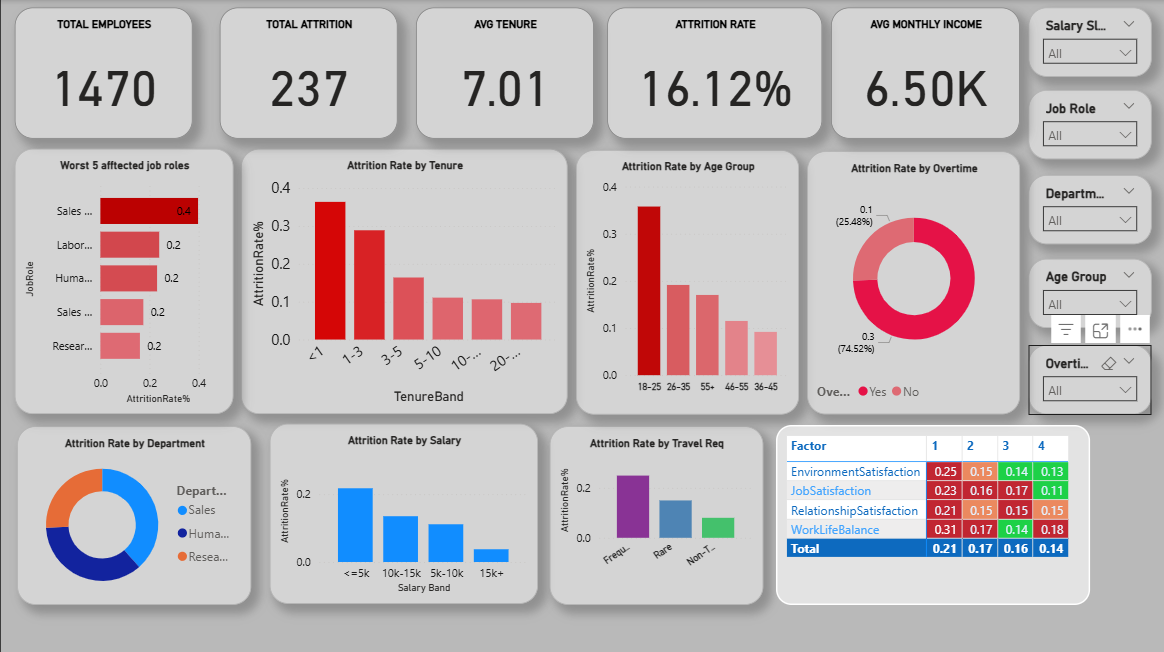

The dashboard page shown, as its layout file describes it:
{"tool":"powerbi","page":{"name":"Page 1","canvas":[1280,720],"ordinal":0},"visuals":[{"type":"card","title":"TOTAL EMPLOYEES","fields":{"Values":["HR_Analytics.TotalEmployees"]},"box":[15,8.8,195,143.8],"z":0},{"type":"clusteredColumnChart","title":"Attrition Rate by Tenure","fields":{"Category":["HR_Analytics.TenureBand"],"Y":["HR_Analytics.AttritionRate%"]},"box":[263,163.8,358.8,291.2],"z":1000},{"type":"clusteredColumnChart","title":"Attrition Rate by Salary ","fields":{"Category":["HR_Analytics.SalarySlabGroup"],"Y":["HR_Analytics.AttritionRate%"]},"box":[295.7,465,294.5,197.5],"z":2000},{"type":"clusteredColumnChart","title":"Attrition Rate by Travel Req","fields":{"Category":["HR_Analytics.BusinessTravel"],"Y":["HR_Analytics.AttritionRate%"]},"box":[603,467.5,234,196.2],"z":3000},{"type":"clusteredColumnChart","title":"Attrition Rate by Age Group","fields":{"Y":["HR_Analytics.AttritionRate%"],"Category":["HR_Analytics.AgeGroup"]},"box":[631,165,245,290],"z":4000},{"type":"donutChart","title":"Attrition Rate by Department","fields":{"Category":["HR_Analytics.Department"],"Y":["HR_Analytics.AttritionRate%"]},"box":[17.5,467.5,257,196.2],"z":5000},{"type":"slicer","title":"Attrition Rate by Salary ","fields":{"Values":["HR_Analytics.SalarySlabGroup"]},"box":[1127.6,8.6,135,76.1],"z":6000},{"type":"slicer","title":"Attrition Rate by Salary ","fields":{"Values":["HR_Analytics.JobRole"]},"box":[1127.6,99.4,135,76.1],"z":7000},{"type":"slicer","title":"Attrition Rate by Salary ","fields":{"Values":["HR_Analytics.Department"]},"box":[1127.6,192.6,135,76.1],"z":8000},{"type":"slicer","title":"Attrition Rate by Salary ","fields":{"Values":["HR_Analytics.AgeGroup"]},"box":[1127.6,283.4,135,76.1],"z":9000},{"type":"slicer","title":"Attrition Rate by Salary ","fields":{"Values":["HR_Analytics.OverTime"]},"box":[1127.6,379.1,135,76.1],"z":10000},{"type":"donutChart","title":"Attrition Rate by Overtime","fields":{"Category":["HR_Analytics.OverTime"],"Y":["HR_Analytics.AttritionRate%"]},"box":[885,166.2,233.8,288.8],"z":11000},{"type":"pivotTable","title":"Avg Tenure","fields":{"Rows":["HR_Analytics.Factor"],"Columns":["HR_Analytics.Satisfaction Score"],"Values":["HR_Analytics.AttritionRate%"]},"box":[850.3,466.3,344.8,197.5],"z":12000},{"type":"clusteredBarChart","title":"Worst 5 afftected job roles","fields":{"Category":["HR_Analytics.JobRole"],"Y":["HR_Analytics.AttritionRate%"]},"box":[15,163.8,240,291.2],"z":13000},{"type":"card","title":"TOTAL ATTRITION","fields":{"Values":["HR_Analytics.Total Attrition No"]},"box":[240,8.8,195,143.8],"z":14000},{"type":"card","title":"AVG TENURE","fields":{"Values":["HR_Analytics.AvgTenureYears"]},"box":[456.2,8.8,195,143.8],"z":15000},{"type":"card","title":"ATTRITION RATE","fields":{"Values":["HR_Analytics.Attrition Rate"]},"box":[665,8.8,236.2,143.8],"z":16000},{"type":"card","title":"AVG MONTHLY INCOME","fields":{"Values":["HR_Analytics.AvgMonthlyIncome"]},"box":[911.2,8.8,207.5,143.8],"z":17000}]}

Visuals, with their boxes in screenshot pixels (x1, y1, x2, y2), scaled from the page's 1280x720 canvas onto the 1164x652 screenshot:
"TOTAL EMPLOYEES" card: {"left": 14, "top": 8, "right": 191, "bottom": 138}
"Attrition Rate by Tenure" clusteredColumnChart: {"left": 239, "top": 148, "right": 565, "bottom": 412}
"Attrition Rate by Salary " clusteredColumnChart: {"left": 269, "top": 421, "right": 537, "bottom": 600}
"Attrition Rate by Travel Req" clusteredColumnChart: {"left": 548, "top": 423, "right": 761, "bottom": 601}
"Attrition Rate by Age Group" clusteredColumnChart: {"left": 574, "top": 149, "right": 797, "bottom": 412}
"Attrition Rate by Department" donutChart: {"left": 16, "top": 423, "right": 250, "bottom": 601}
"Attrition Rate by Salary " slicer: {"left": 1025, "top": 8, "right": 1148, "bottom": 77}
"Attrition Rate by Salary " slicer: {"left": 1025, "top": 90, "right": 1148, "bottom": 159}
"Attrition Rate by Salary " slicer: {"left": 1025, "top": 174, "right": 1148, "bottom": 243}
"Attrition Rate by Salary " slicer: {"left": 1025, "top": 257, "right": 1148, "bottom": 326}
"Attrition Rate by Salary " slicer: {"left": 1025, "top": 343, "right": 1148, "bottom": 412}
"Attrition Rate by Overtime" donutChart: {"left": 805, "top": 151, "right": 1017, "bottom": 412}
"Avg Tenure" pivotTable: {"left": 773, "top": 422, "right": 1087, "bottom": 601}
"Worst 5 afftected job roles" clusteredBarChart: {"left": 14, "top": 148, "right": 232, "bottom": 412}
"TOTAL ATTRITION" card: {"left": 218, "top": 8, "right": 396, "bottom": 138}
"AVG TENURE" card: {"left": 415, "top": 8, "right": 592, "bottom": 138}
"ATTRITION RATE" card: {"left": 605, "top": 8, "right": 820, "bottom": 138}
"AVG MONTHLY INCOME" card: {"left": 829, "top": 8, "right": 1017, "bottom": 138}
